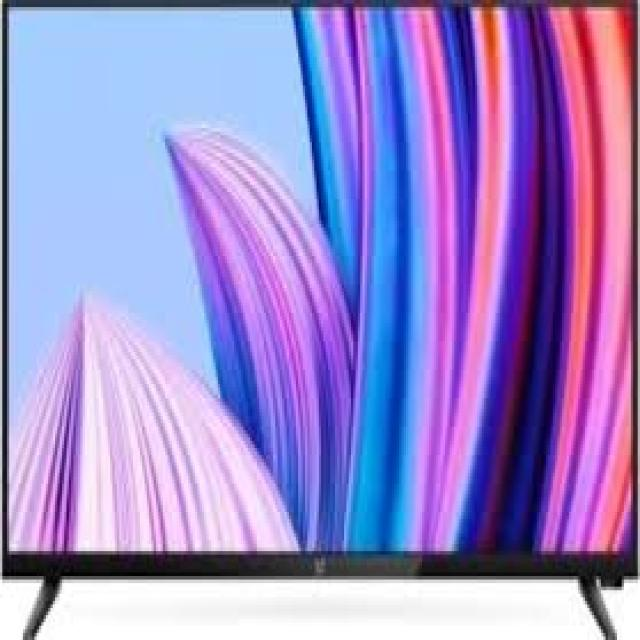tv: (2, 1, 640, 636)
